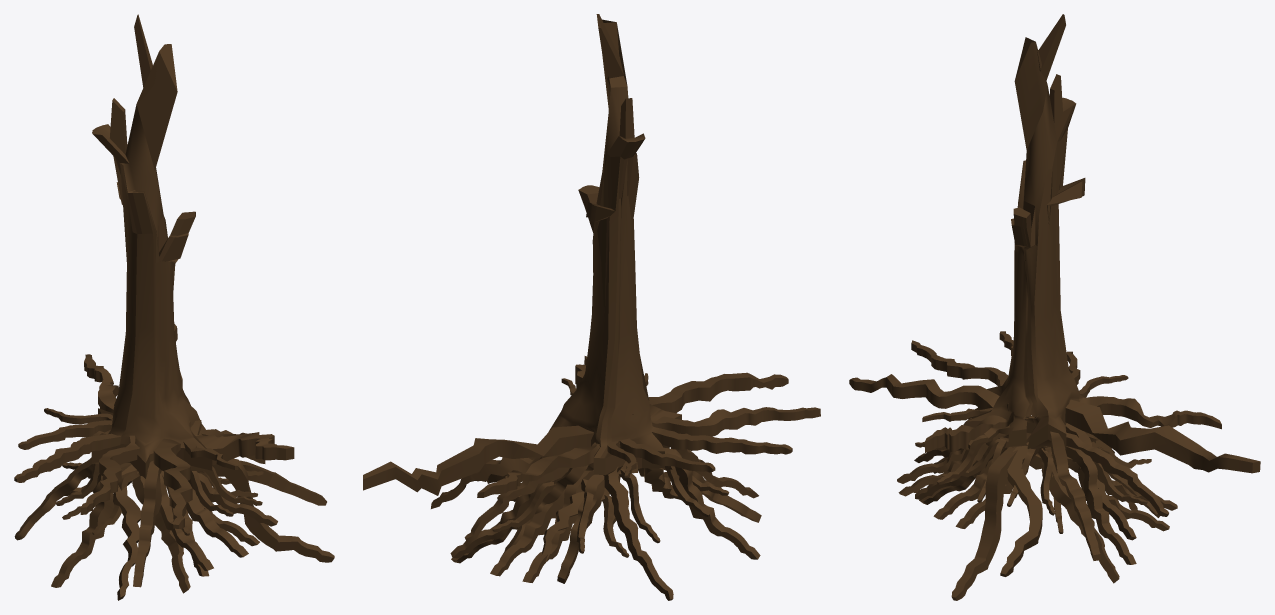
The model's file is Mesh_Tree.fbx.
3 renders of one model, left to right at view 1: azimuth 30°, elevation 25°; view 2: azimuth 150°, elevation 25°; view 3: azimuth 270°, elevation 25°, orthographic. The views are drawn at different scales.
Parts seen in each view (by area): view 1: polySurface83, polySurface106, polySurface87, polySurface82, polySurface101, polySurface71, polySurface103, polySurface70, polySurface98, polySurface86, polySurface80, polySurface89 (+12 smaller); view 2: polySurface83, polySurface69, polySurface70, polySurface82, polySurface71, polySurface86, polySurface58, polySurface98, polySurface91, polySurface68, polySurface105, polySurface100 (+11 smaller); view 3: polySurface83, polySurface69, polySurface106, polySurface82, polySurface89, polySurface58, polySurface93, polySurface68, polySurface87, polySurface100, polySurface70, polySurface96 (+6 smaller).
Boxes of the visible parts, box(x1,y1,x2,y2) form: polySurface83: box(91, 14, 212, 478); polySurface106: box(199, 458, 334, 562); polySurface87: box(190, 420, 294, 464); polySurface82: box(153, 420, 192, 529); polySurface101: box(133, 460, 161, 587); polySurface71: box(14, 433, 121, 482); polySurface103: box(113, 465, 140, 600); polySurface70: box(80, 435, 139, 514); polySurface98: box(51, 463, 131, 587); polySurface86: box(14, 457, 93, 540); polySurface80: box(132, 475, 190, 593); polySurface89: box(240, 460, 326, 505); polySurface83: box(548, 14, 681, 475); polySurface69: box(363, 425, 594, 495); polySurface70: box(651, 407, 820, 436); polySurface82: box(648, 372, 788, 413); polySurface71: box(651, 426, 792, 454); polySurface86: box(603, 466, 673, 600); polySurface58: box(477, 442, 599, 497); polySurface98: box(663, 447, 760, 559); polySurface91: box(490, 480, 565, 576); polySurface68: box(431, 456, 551, 508); polySurface105: box(557, 414, 633, 583); polySurface100: box(464, 467, 569, 541); polySurface83: box(966, 14, 1085, 449); polySurface69: box(1065, 399, 1260, 473); polySurface106: box(951, 433, 1031, 600); polySurface82: box(849, 374, 1008, 410); polySurface89: box(1000, 442, 1042, 576); polySurface58: box(1080, 396, 1221, 429); polySurface93: box(1065, 446, 1136, 564); polySurface68: box(1050, 431, 1100, 560); polySurface87: box(925, 412, 1013, 452); polySurface100: box(1066, 432, 1168, 516); polySurface70: box(911, 340, 1008, 386); polySurface96: box(1037, 447, 1119, 583).
Bounding box in the file's own units: 64.96 × 107 × 76.61.
